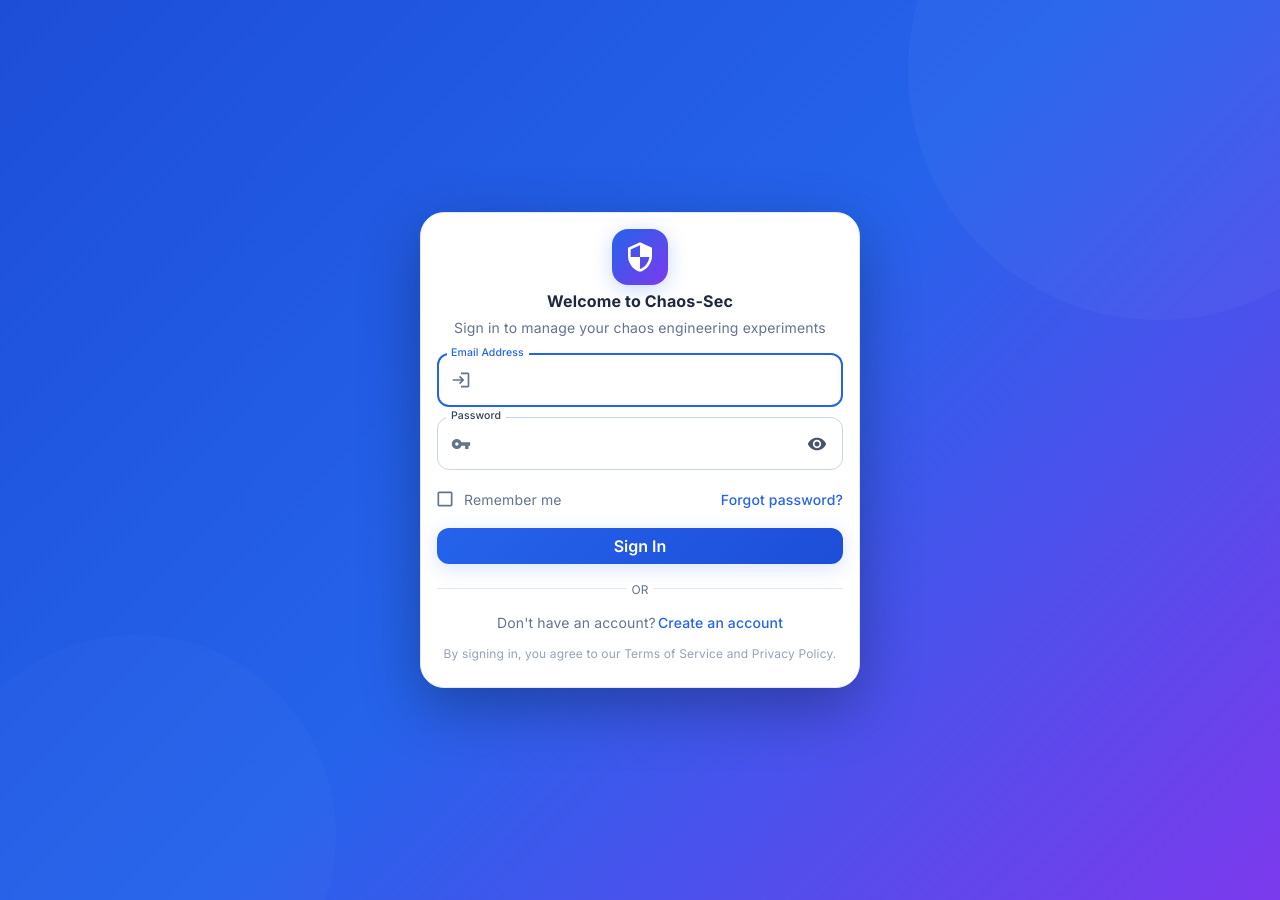
Test: Auth Flow Integration › Login flow – error handling › shows an error message when credentials are wrong
Type "wrong@example.com" into the field labelled "Email Address" at {"x": 661, "y": 380}, box [479,354,843,407]
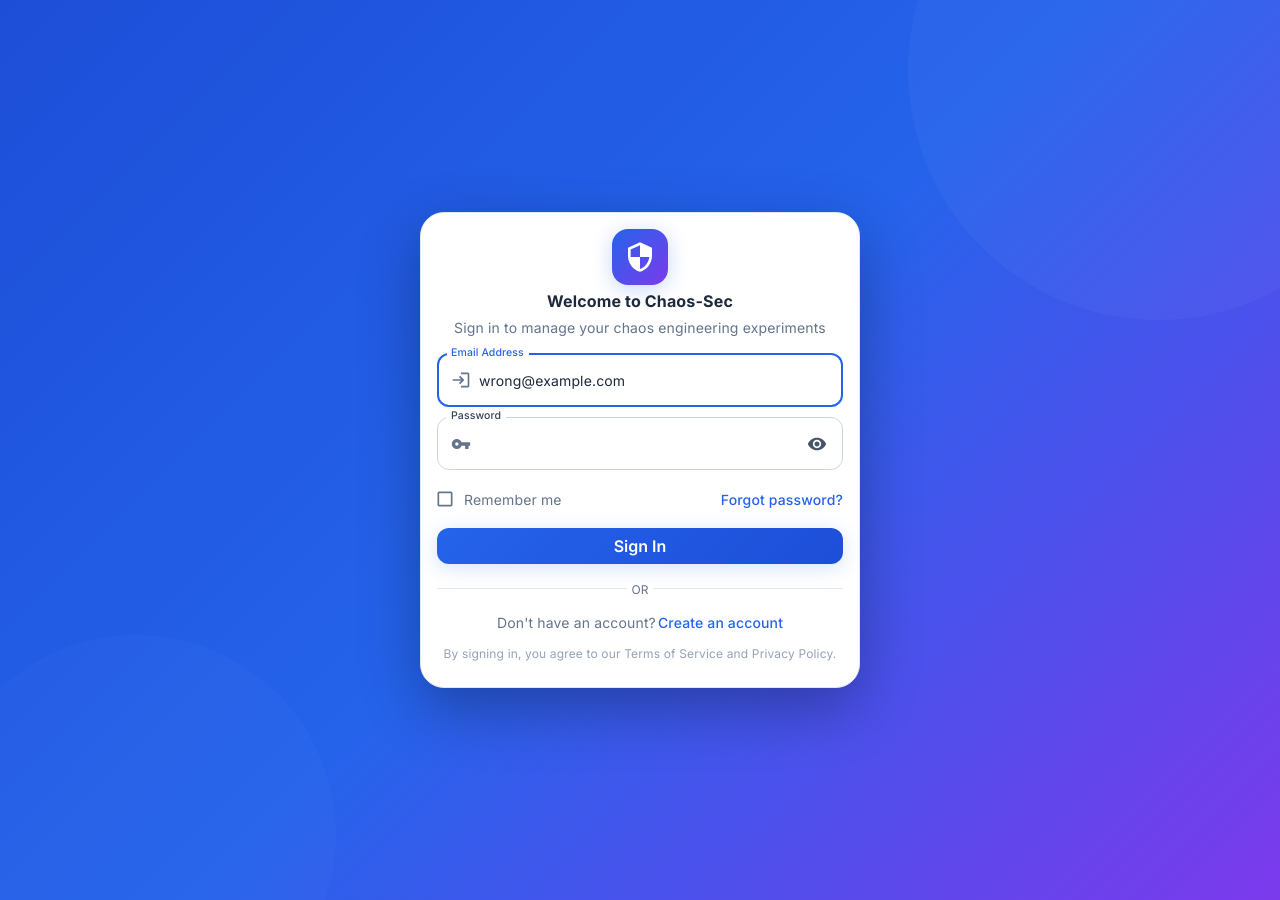
Type "WrongP@ss1" into the password field labelled "Password" at {"x": 636, "y": 444}, box [479,417,794,470]
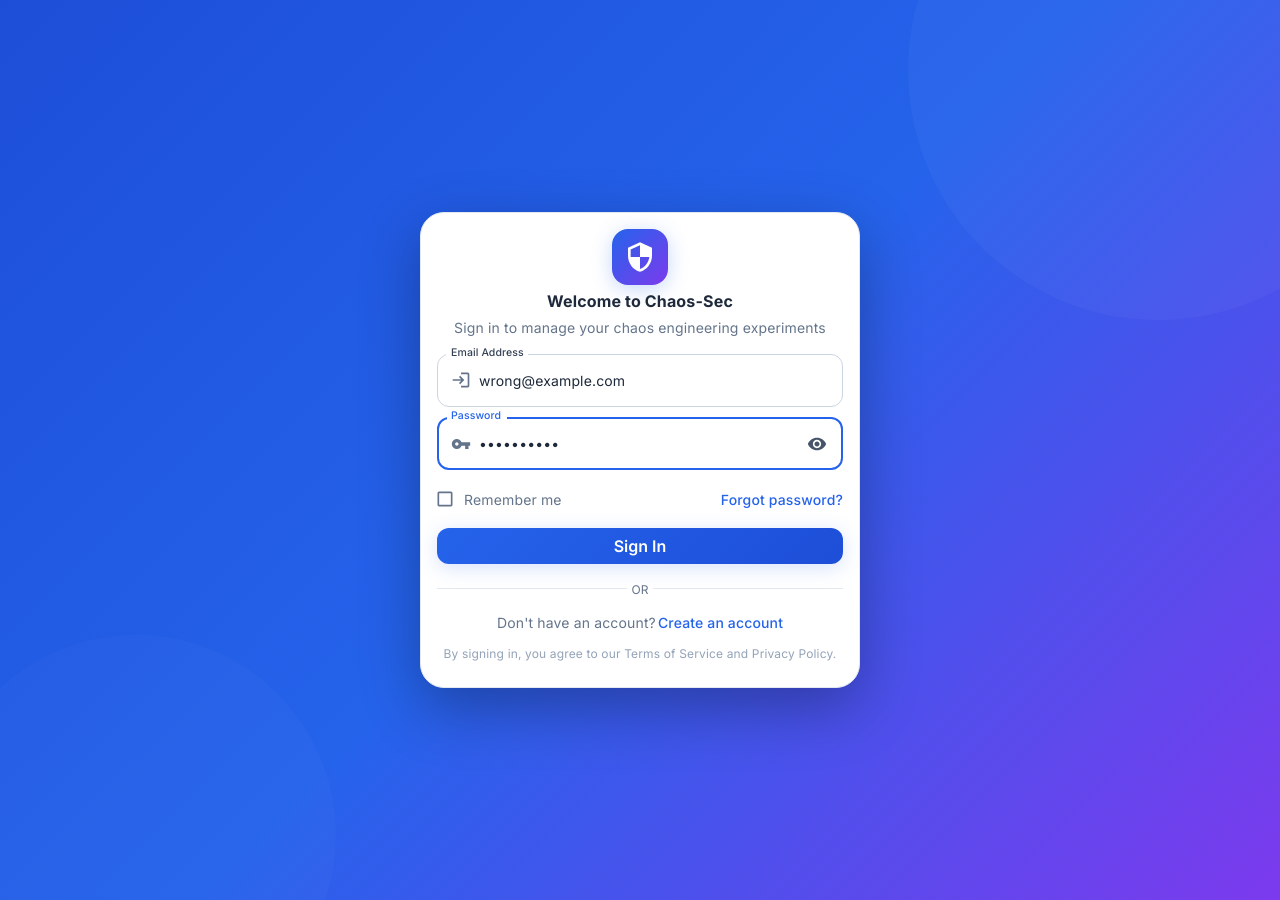
Click the button "Sign In" at {"x": 640, "y": 546}, box [437,528,843,564]
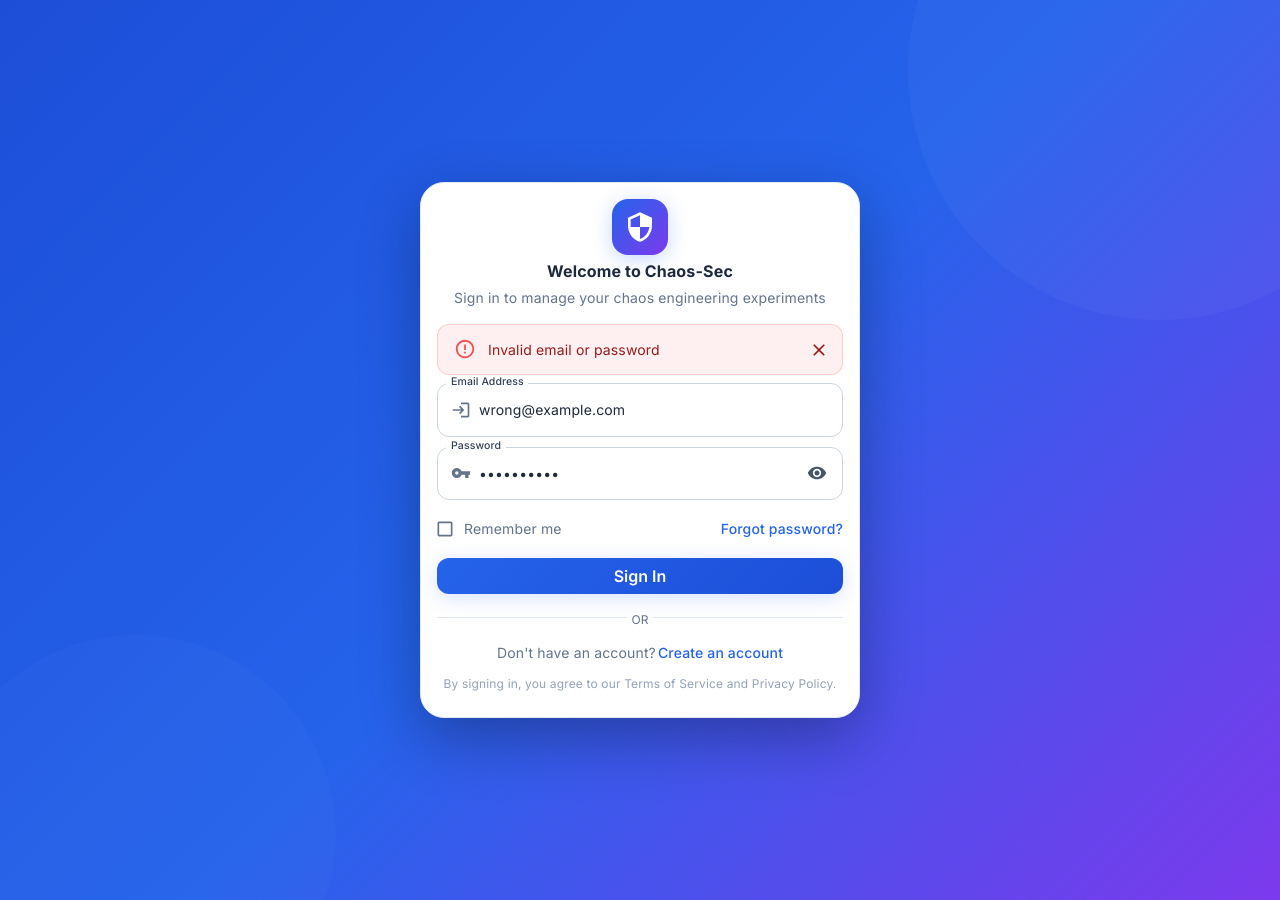
Check: the message "Invalid email or password" is shown, box [437,324,843,375]
